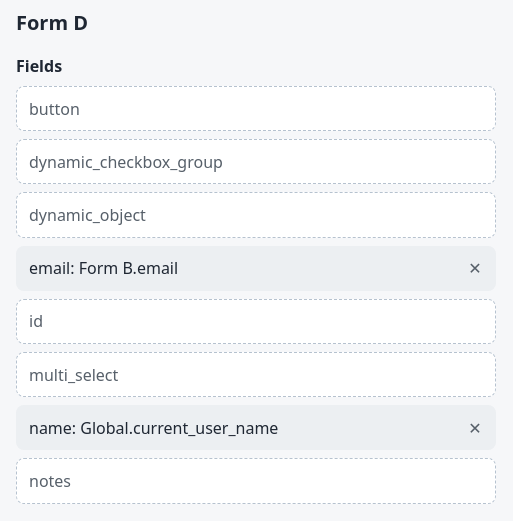
PrefillPanel › clears only the clicked row, leaving other mapped rows intact
What coordinates should you click on to do the following:
click the button named "Clear mapping for email"
I would click on:
 (475, 268)
Its box is [463,256,487,280].
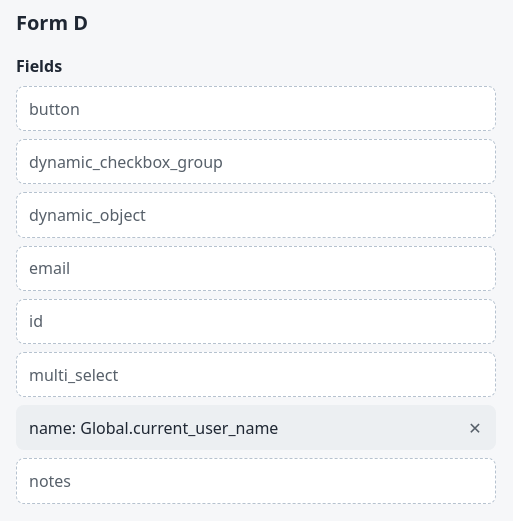
Expected: the text "name: Global.current_user_name" is shown, [16,405,496,450]
Now the text "email: Form B.email" is gone
